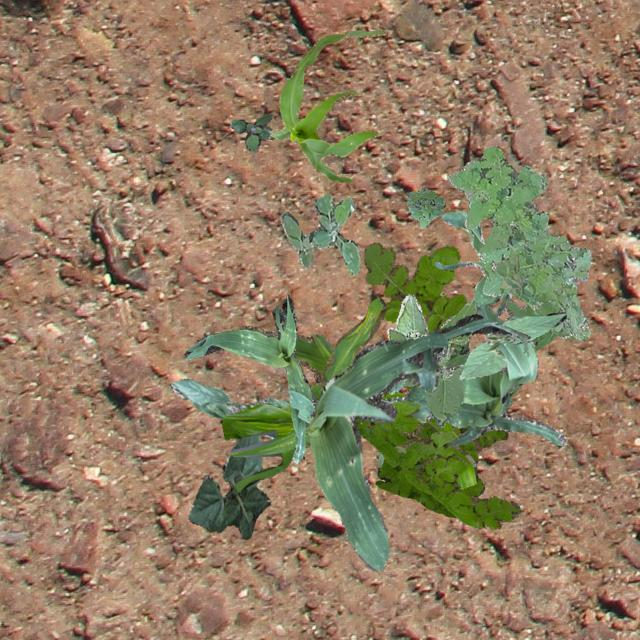crop: (306, 312, 528, 570), (222, 294, 476, 491), (194, 324, 383, 466), (380, 302, 566, 444), (184, 296, 316, 462), (268, 28, 384, 182), (386, 294, 476, 426), (186, 434, 270, 538), (434, 210, 511, 316), (458, 310, 564, 378), (170, 378, 288, 438)
weed: (446, 146, 590, 340), (353, 399, 520, 528), (374, 382, 508, 516), (443, 298, 558, 407), (362, 242, 466, 332), (280, 192, 358, 274), (230, 112, 274, 150), (406, 188, 444, 226)
